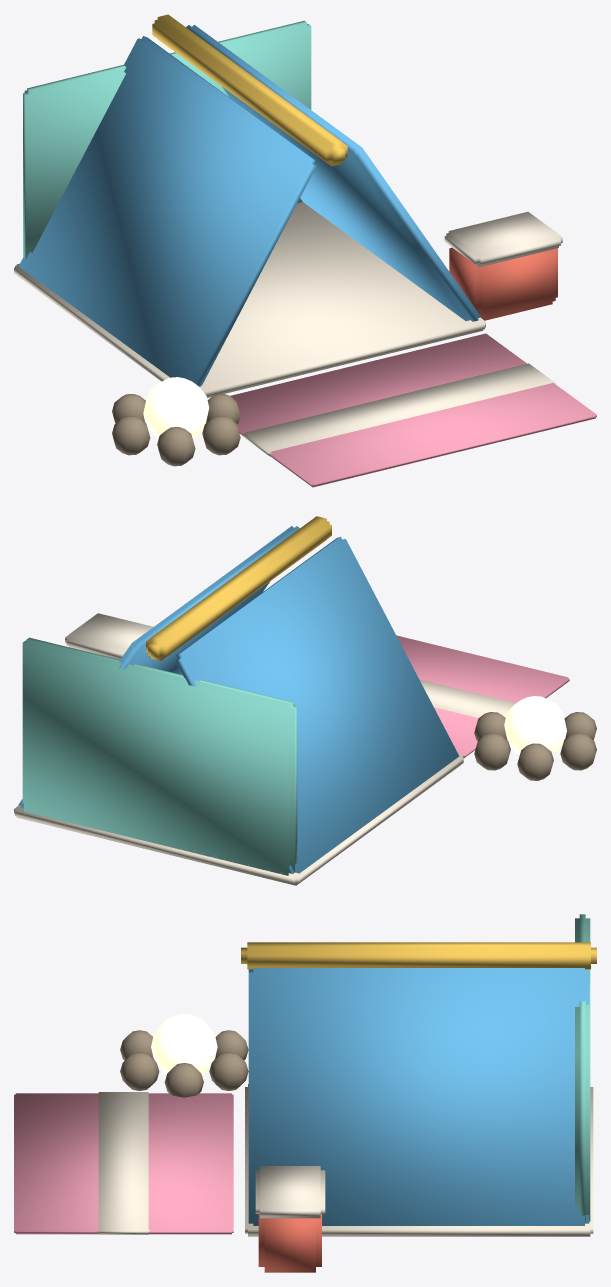
Rendered from CampingTent.fbx.
3 views of the same model, one above another, from view 1: azimuth 30°, elevation 25°; view 2: azimuth 150°, elevation 25°; view 3: azimuth 270°, elevation 25° (orthographic). The views are drawn at different scales.
Visible parts, largest first — view 1: CampingTent; view 2: CampingTent; view 3: CampingTent.
Boxes of the visible parts, bbox=[...] form: CampingTent: bbox=[14, 14, 596, 487]; CampingTent: bbox=[14, 516, 596, 885]; CampingTent: bbox=[14, 914, 596, 1272].
Bounding box in the file's own units: 3.67 × 1.65 × 3.85.
